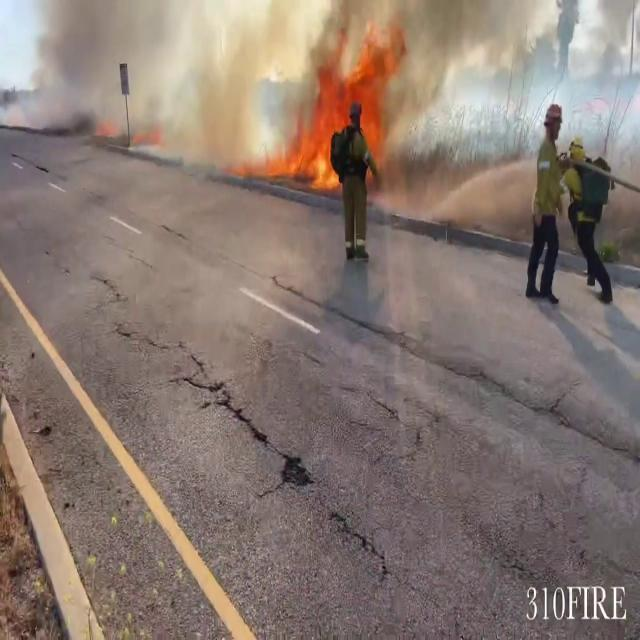Fire: (289, 51, 385, 193)
Smoke: (8, 0, 544, 156), (5, 0, 306, 159)
